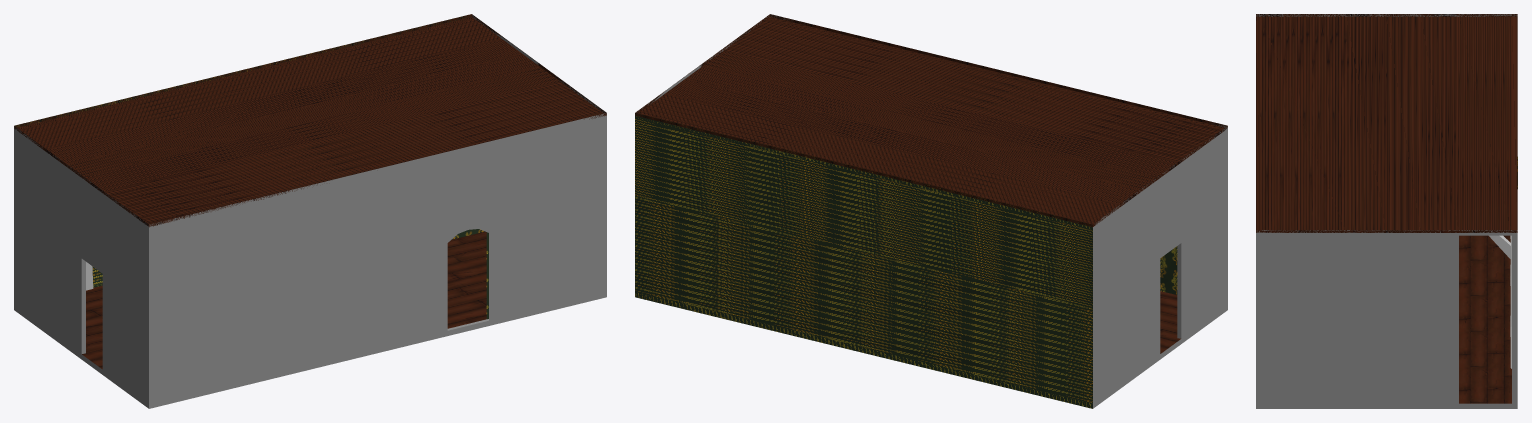
File: Hall.FBX
The picture shows the model from 3 angles, left to right: view 1: azimuth 30°, elevation 25°; view 2: azimuth 150°, elevation 25°; view 3: azimuth 270°, elevation 25°; orthographic projection. The views are drawn at different scales.
Parts seen in each view (by area): view 1: Paredes hall, Techo Hall, Piso Hall; view 2: Paredes hall, Techo Hall, Piso Hall; view 3: Techo Hall, Paredes hall, Piso Hall, Object001.
Part boxes in pixels (x1,y1,x2,y2): Paredes hall: (14, 15, 606, 408); Techo Hall: (14, 14, 606, 227); Piso Hall: (82, 231, 488, 369); Paredes hall: (635, 14, 1227, 408); Techo Hall: (635, 14, 1227, 227); Piso Hall: (1160, 291, 1180, 353); Techo Hall: (1256, 14, 1517, 232); Paredes hall: (1256, 14, 1517, 408); Piso Hall: (1459, 235, 1511, 403); Object001: (1489, 235, 1511, 368).
Size of the model in its own units: 944 by 363 by 483.
